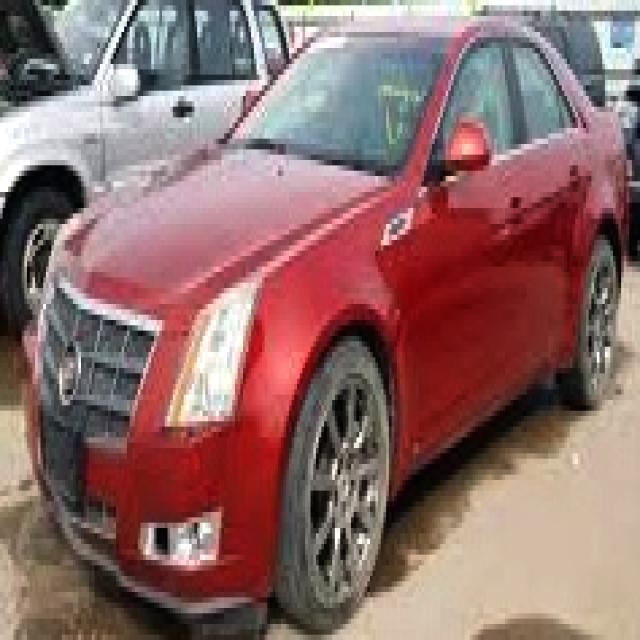red: (31, 0, 622, 588)
